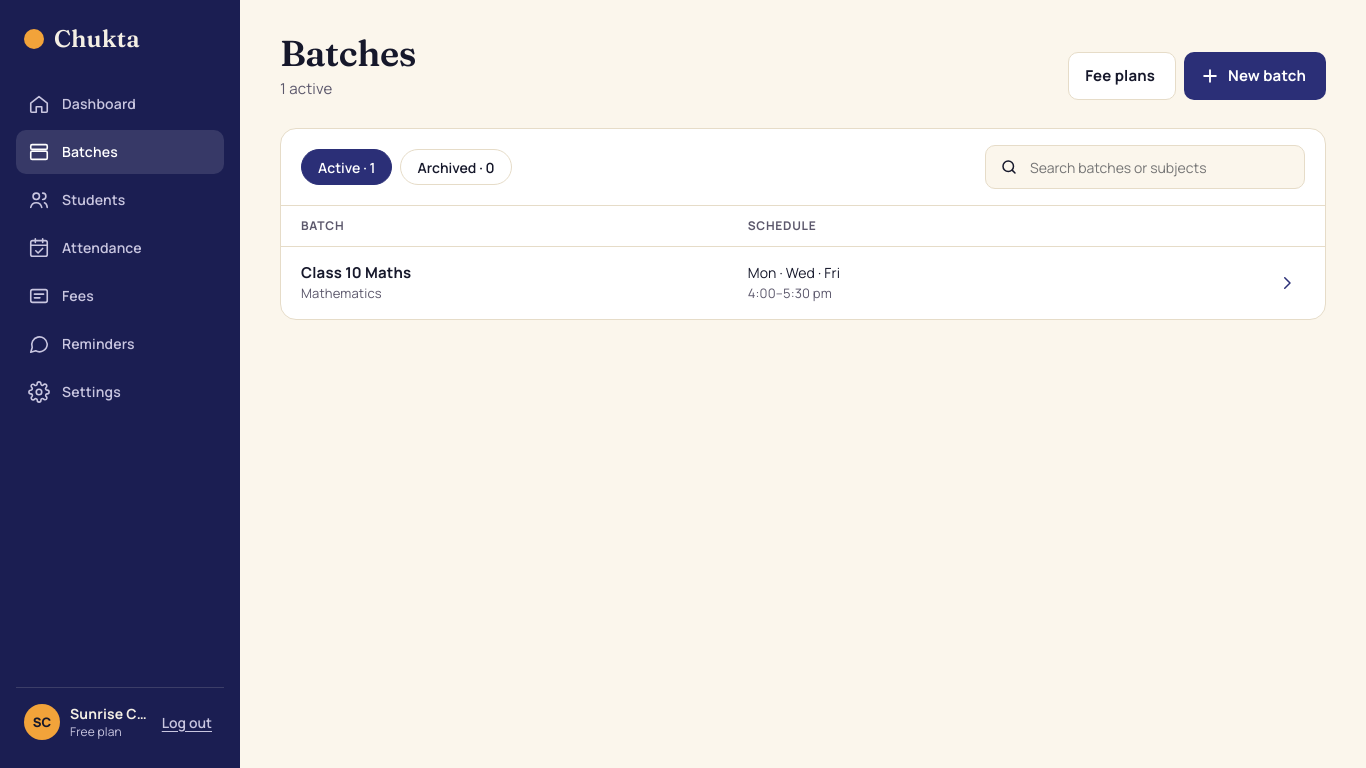
Scenario: /batches › says when a search matches nothing
Type "zzz" into the search field labelled "Search batches" at coordinates (1159, 167), box [1028,156,1290,178]
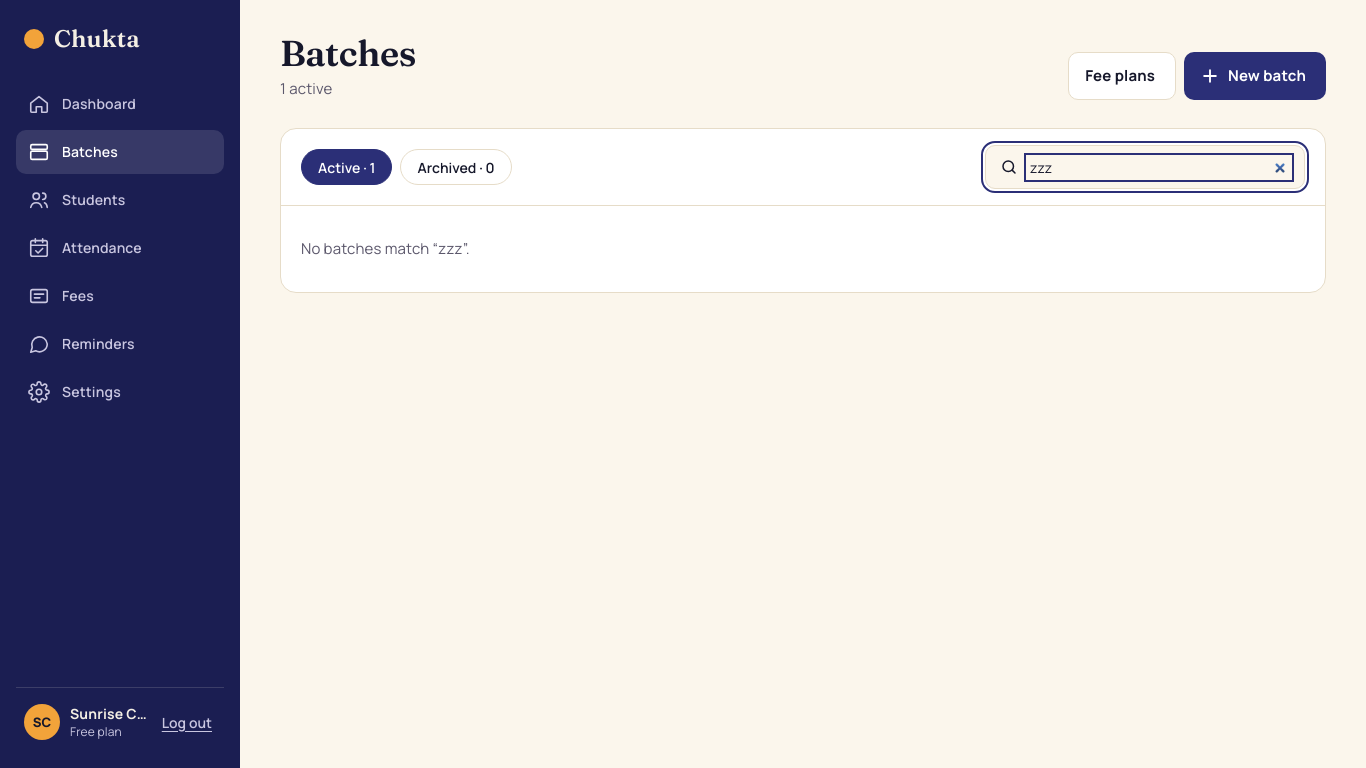
Result: the text "No batches match “zzz”." is shown at [301,238,470,259]
